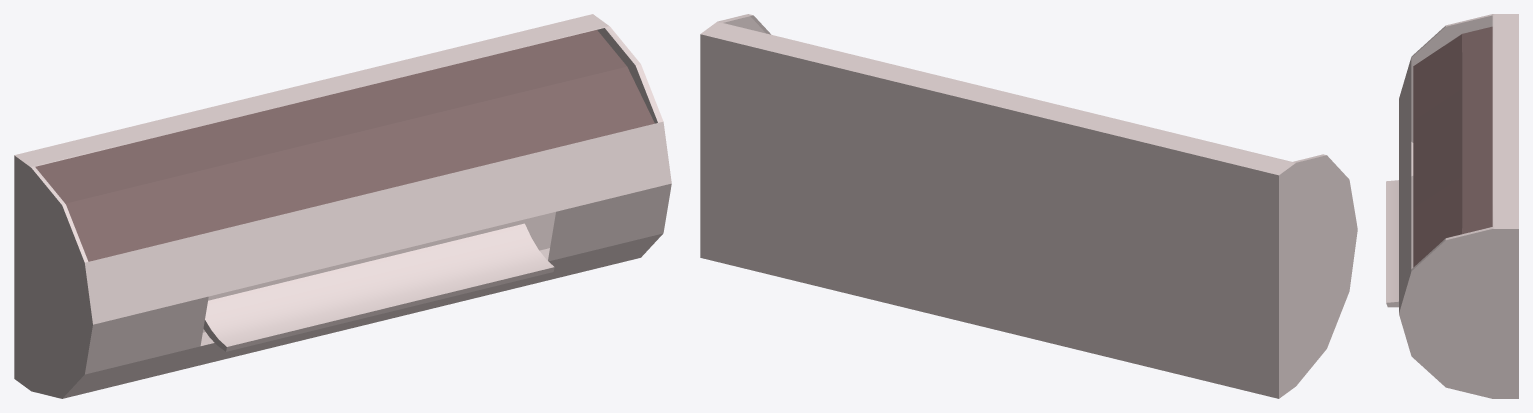
The model's file is airconditioner.fbx.
The picture shows the model from 3 angles, left to right: view 1: azimuth 30°, elevation 25°; view 2: azimuth 150°, elevation 25°; view 3: azimuth 270°, elevation 25°; orthographic projection. The views are drawn at different scales.
Visible parts, largest first — view 1: polySurface1, polySurface2, pCube1; view 2: polySurface1; view 3: polySurface1, polySurface2, pCube1.
Part boxes in pixels (bbox=[...]): polySurface1: bbox=[14, 14, 671, 398]; polySurface2: bbox=[35, 30, 654, 261]; pCube1: bbox=[203, 223, 554, 351]; polySurface1: bbox=[700, 14, 1357, 398]; polySurface1: bbox=[1399, 14, 1518, 398]; polySurface2: bbox=[1413, 26, 1492, 267]; pCube1: bbox=[1386, 176, 1413, 307].
Bounding box in the file's own units: 10.4 × 3.84 × 2.72.
